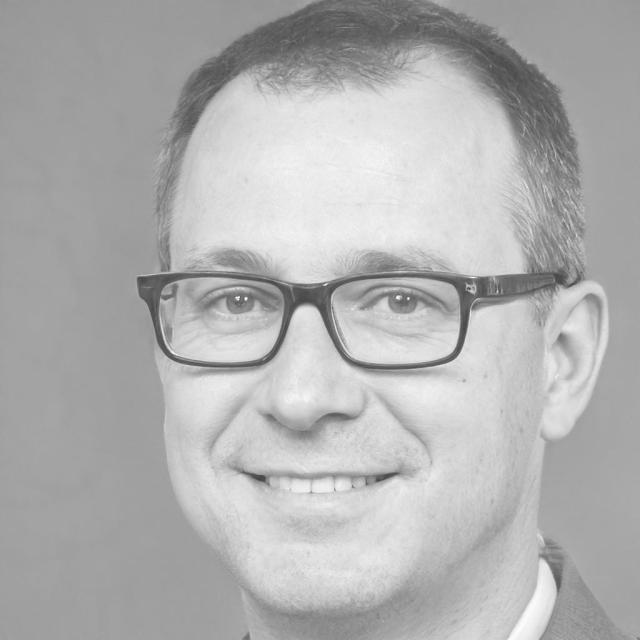lens: (331, 277, 461, 364), (160, 278, 284, 362)
